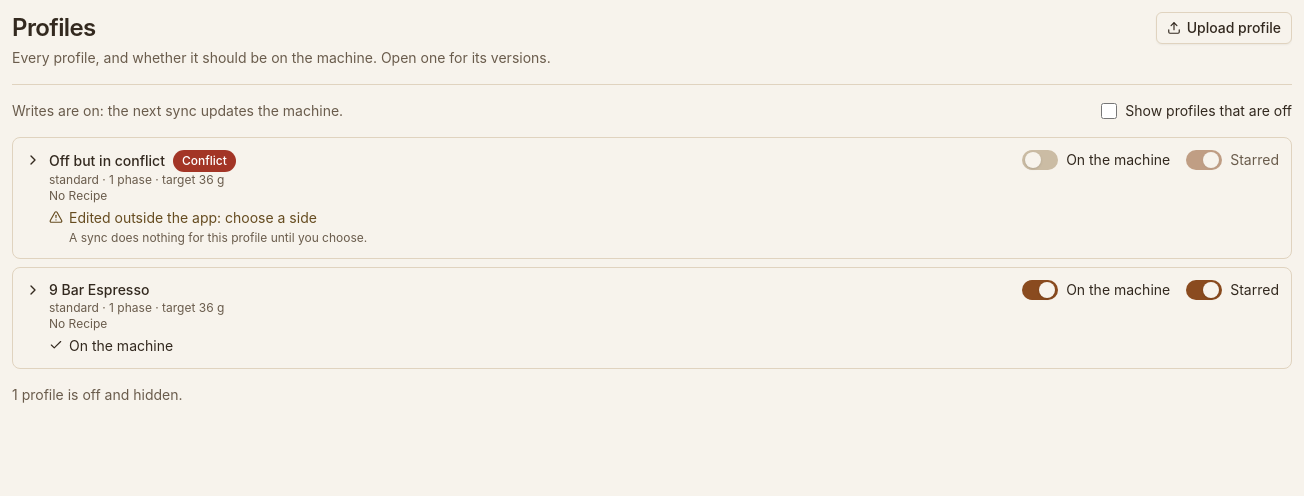
Scenario: the list › hides profiles that are off until asked, remembers the choice, and keeps the ones that need a person
Expected: the text "Old one" is not shown
Expected: the text "Off but in conflict" is shown, [49, 151, 165, 171]
Click the checkbox with test id "show-off" at x=1109, y=111, box [1101, 103, 1117, 119]
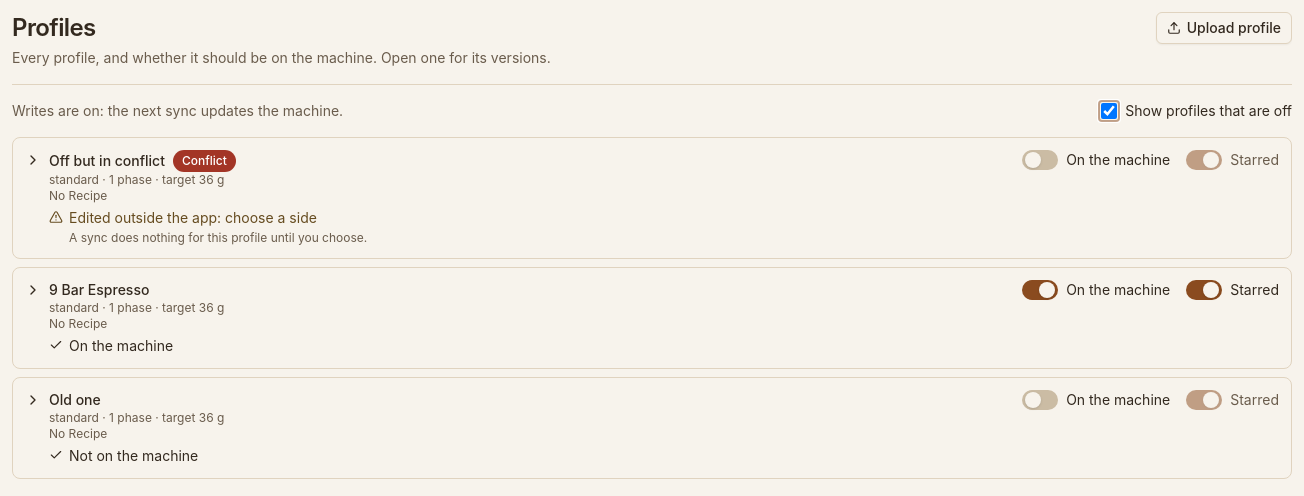
Result: the text "Old one" is shown at [49, 390, 101, 410]
